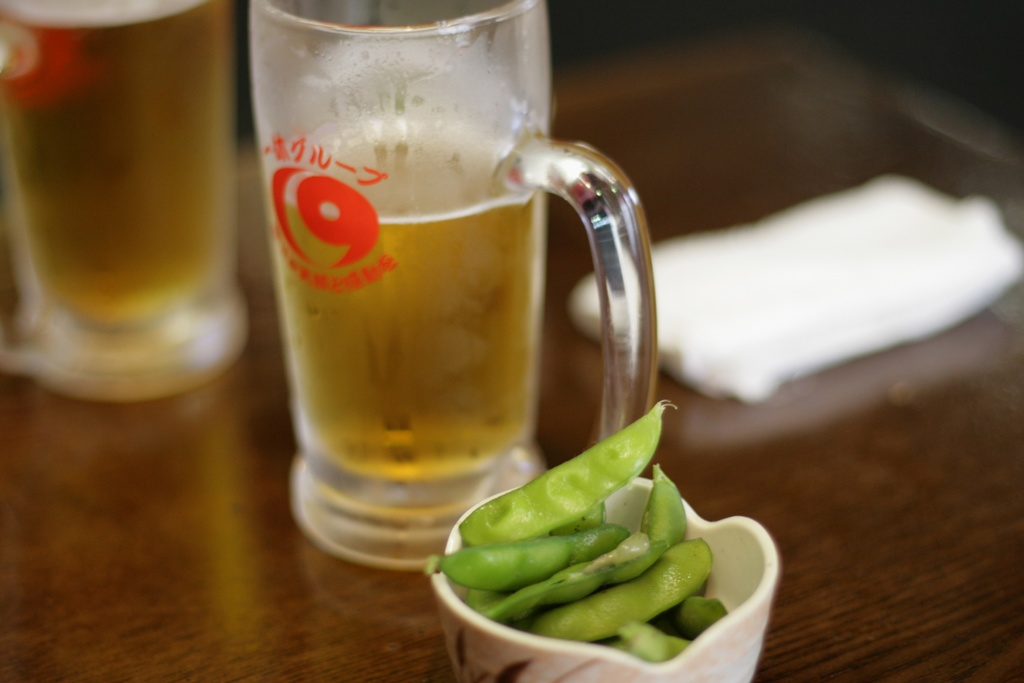Beer: (259, 115, 544, 483), (0, 0, 224, 356)
